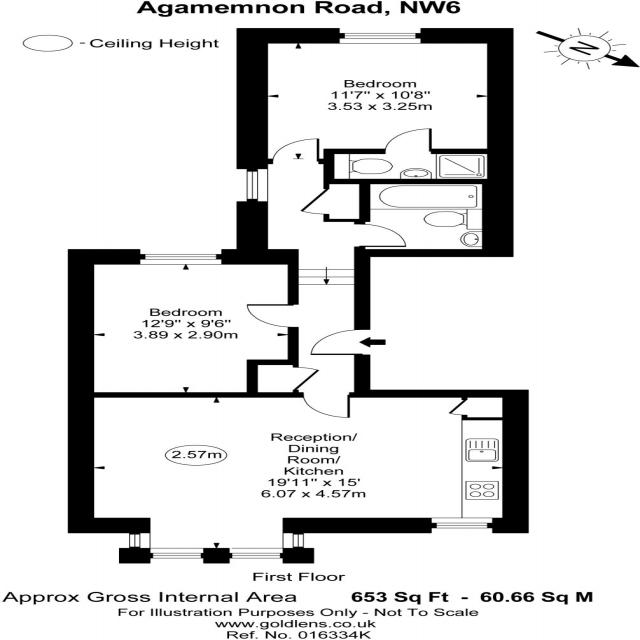DOOR: (307, 328, 371, 357), (353, 222, 411, 250), (300, 392, 355, 420), (242, 303, 299, 330), (380, 127, 433, 154), (293, 186, 335, 216)
ROOM: (67, 391, 529, 564), (236, 28, 514, 171), (68, 249, 299, 393)
WINDOW: (270, 135, 323, 163), (336, 31, 423, 45), (138, 253, 223, 265), (243, 168, 270, 204), (149, 547, 204, 559), (228, 548, 284, 559), (125, 532, 154, 548), (282, 532, 304, 548)
